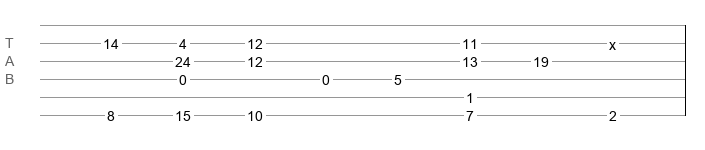0: (179, 72, 187, 82), (322, 72, 330, 82)
1: (466, 90, 474, 100)
10: (247, 108, 263, 118)
11: (462, 36, 478, 46)
12: (247, 54, 263, 64), (247, 36, 263, 46)
13: (462, 54, 478, 64)
14: (103, 36, 119, 46)
15: (175, 108, 191, 118)
19: (533, 54, 549, 64)
2: (609, 108, 617, 118)
24: (175, 54, 191, 64)
4: (179, 36, 187, 46)
5: (394, 72, 402, 82)
7: (466, 108, 474, 118)
8: (107, 108, 115, 118)
x: (609, 37, 616, 45)
